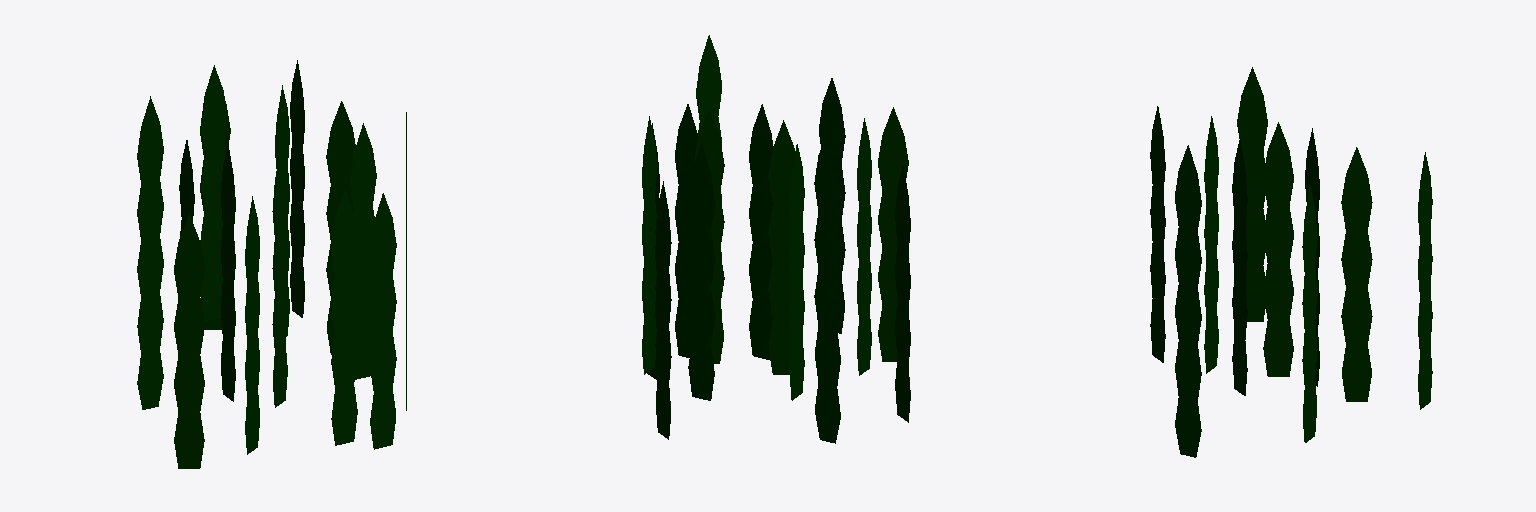
File: seagrass.obj
3 views of the same model, side by side, from view 1: azimuth 30°, elevation 25°; view 2: azimuth 150°, elevation 25°; view 3: azimuth 270°, elevation 25° (orthographic).
Visible parts, largest first — view 1: Plane.014; view 2: Plane.014; view 3: Plane.014.
Part boxes in pixels (x1,y1,x2,y2): Plane.014: (137,60,406,468); Plane.014: (642,35,910,443); Plane.014: (1150,67,1432,457).
Bounding box in the file's own units: 16.62 × 23 × 19.51.